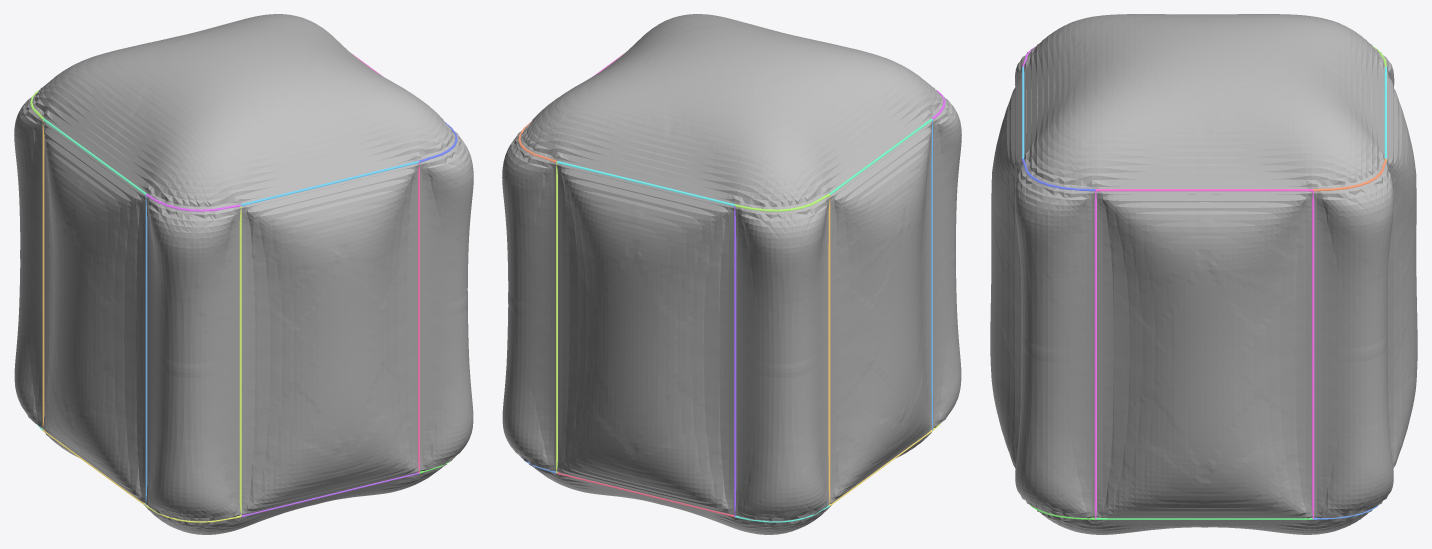
File: onshape_simple_shape.gltf
3 views of the same model, side by side, from view 1: azimuth 30°, elevation 25°; view 2: azimuth 150°, elevation 25°; view 3: azimuth 270°, elevation 25° (orthographic). The views are drawn at different scales.
Bounding box in the file's own units: 0.6782 × 0.775 × 0.6809.
